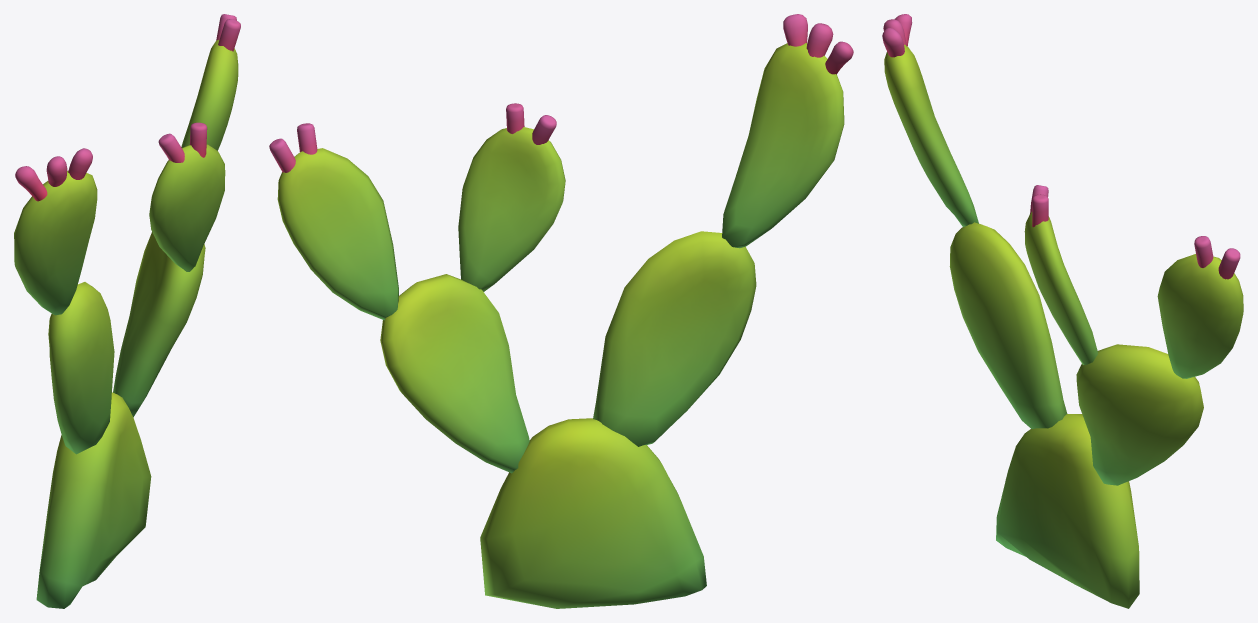
File: Cactus002.fbx
3 views of the same model, side by side, from view 1: azimuth 30°, elevation 25°; view 2: azimuth 150°, elevation 25°; view 3: azimuth 270°, elevation 25° (orthographic). The views are drawn at different scales.
Parts seen in each view (by area): view 1: Cactus002; view 2: Cactus002; view 3: Cactus002.
Boxes of the visible parts, x1=… form: Cactus002: x1=14, y1=14, x2=240, y2=608; Cactus002: x1=269, y1=14, x2=853, y2=608; Cactus002: x1=882, y1=14, x2=1243, y2=608.
Bounding box in the file's own units: 33.82 × 42.98 × 28.
Materials: 1 (1 with a texture image).
